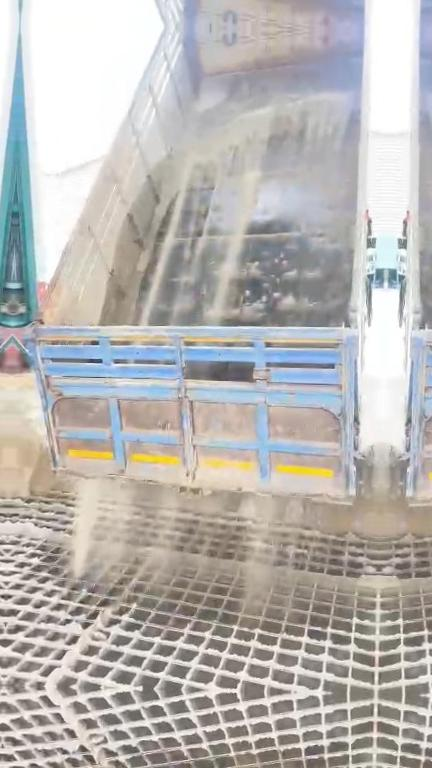sand: (8, 374, 359, 581), (135, 92, 338, 325), (8, 520, 379, 590), (46, 603, 119, 686), (344, 443, 382, 537)
